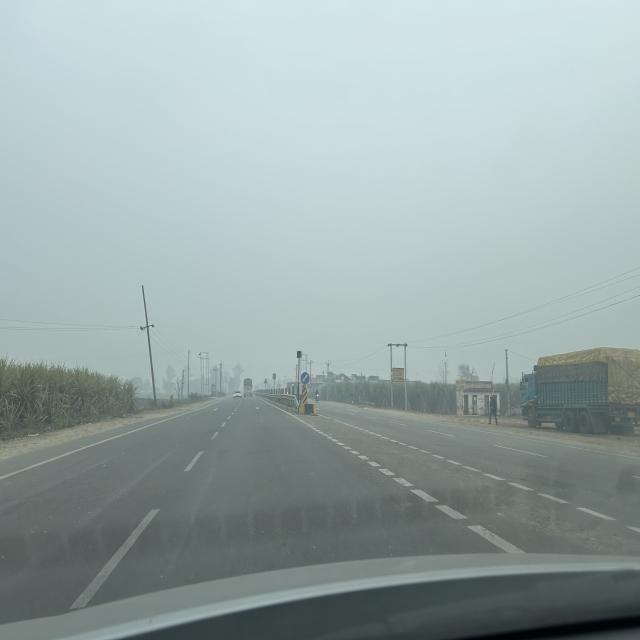KEEP_LEFT: (300, 372, 310, 384)
